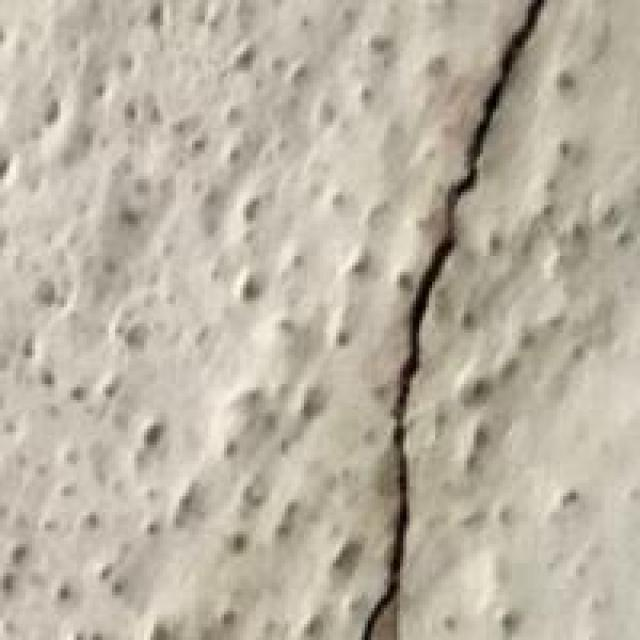crack: (346, 0, 579, 637)
